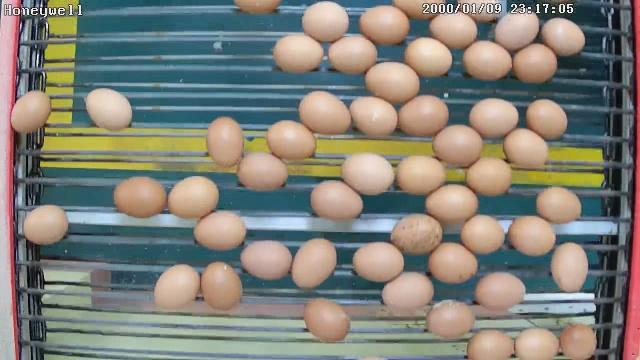egg: (298, 88, 353, 138), (290, 238, 338, 292), (340, 151, 394, 198), (152, 262, 202, 312), (112, 175, 168, 219), (390, 212, 446, 256), (364, 60, 421, 103), (432, 123, 484, 170), (167, 175, 220, 221), (382, 268, 436, 313), (192, 210, 248, 253), (310, 179, 364, 223), (352, 240, 406, 284), (424, 181, 478, 225), (393, 154, 449, 196), (302, 294, 350, 343), (84, 86, 134, 133), (359, 3, 410, 49), (272, 31, 324, 76), (426, 240, 479, 284), (396, 94, 450, 137), (238, 237, 292, 280), (348, 94, 398, 140), (236, 149, 288, 193), (468, 98, 520, 142), (548, 242, 592, 294), (474, 271, 528, 313), (403, 35, 454, 79), (266, 118, 316, 162), (462, 38, 512, 82), (508, 214, 558, 258), (201, 260, 243, 312), (509, 43, 561, 85), (300, 1, 350, 44), (425, 296, 476, 338), (326, 35, 378, 76), (493, 7, 540, 52), (502, 126, 550, 170), (464, 154, 514, 196), (206, 115, 245, 168), (540, 14, 587, 57), (428, 10, 478, 50), (460, 213, 506, 256), (536, 185, 583, 226), (23, 204, 68, 246), (10, 88, 51, 134), (527, 98, 569, 140), (514, 323, 560, 358), (464, 328, 514, 360), (558, 320, 598, 358), (230, 0, 282, 18)
